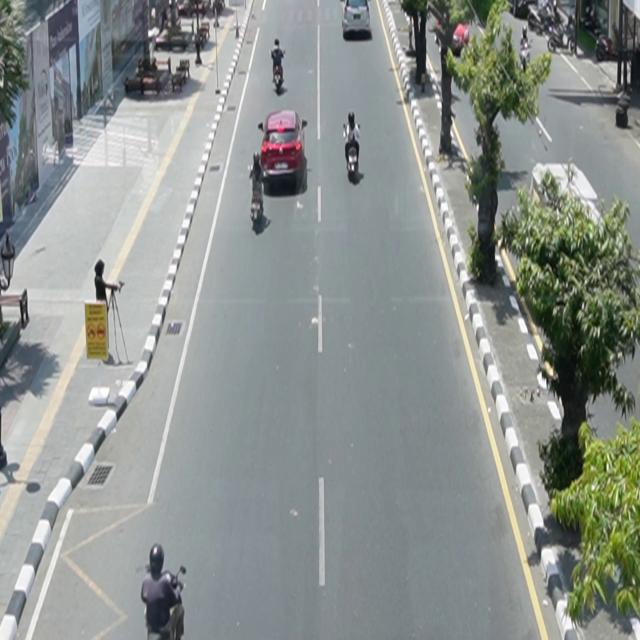car: (258, 110, 309, 188), (343, 1, 371, 38)
